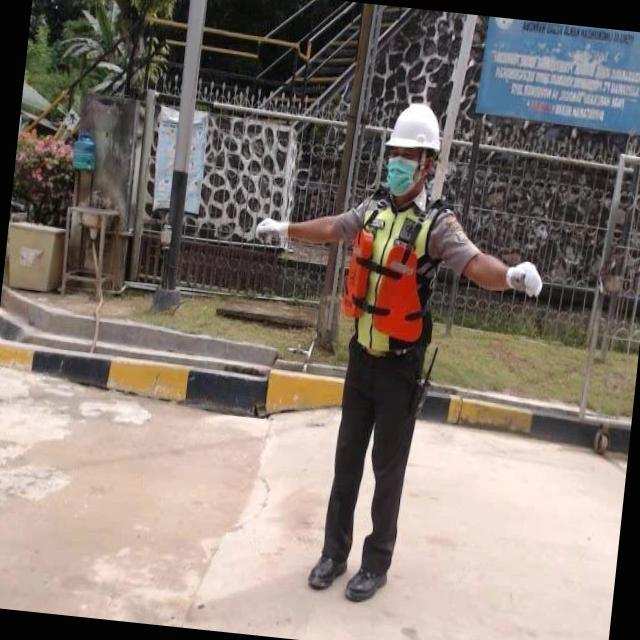vest: (334, 186, 444, 352)
